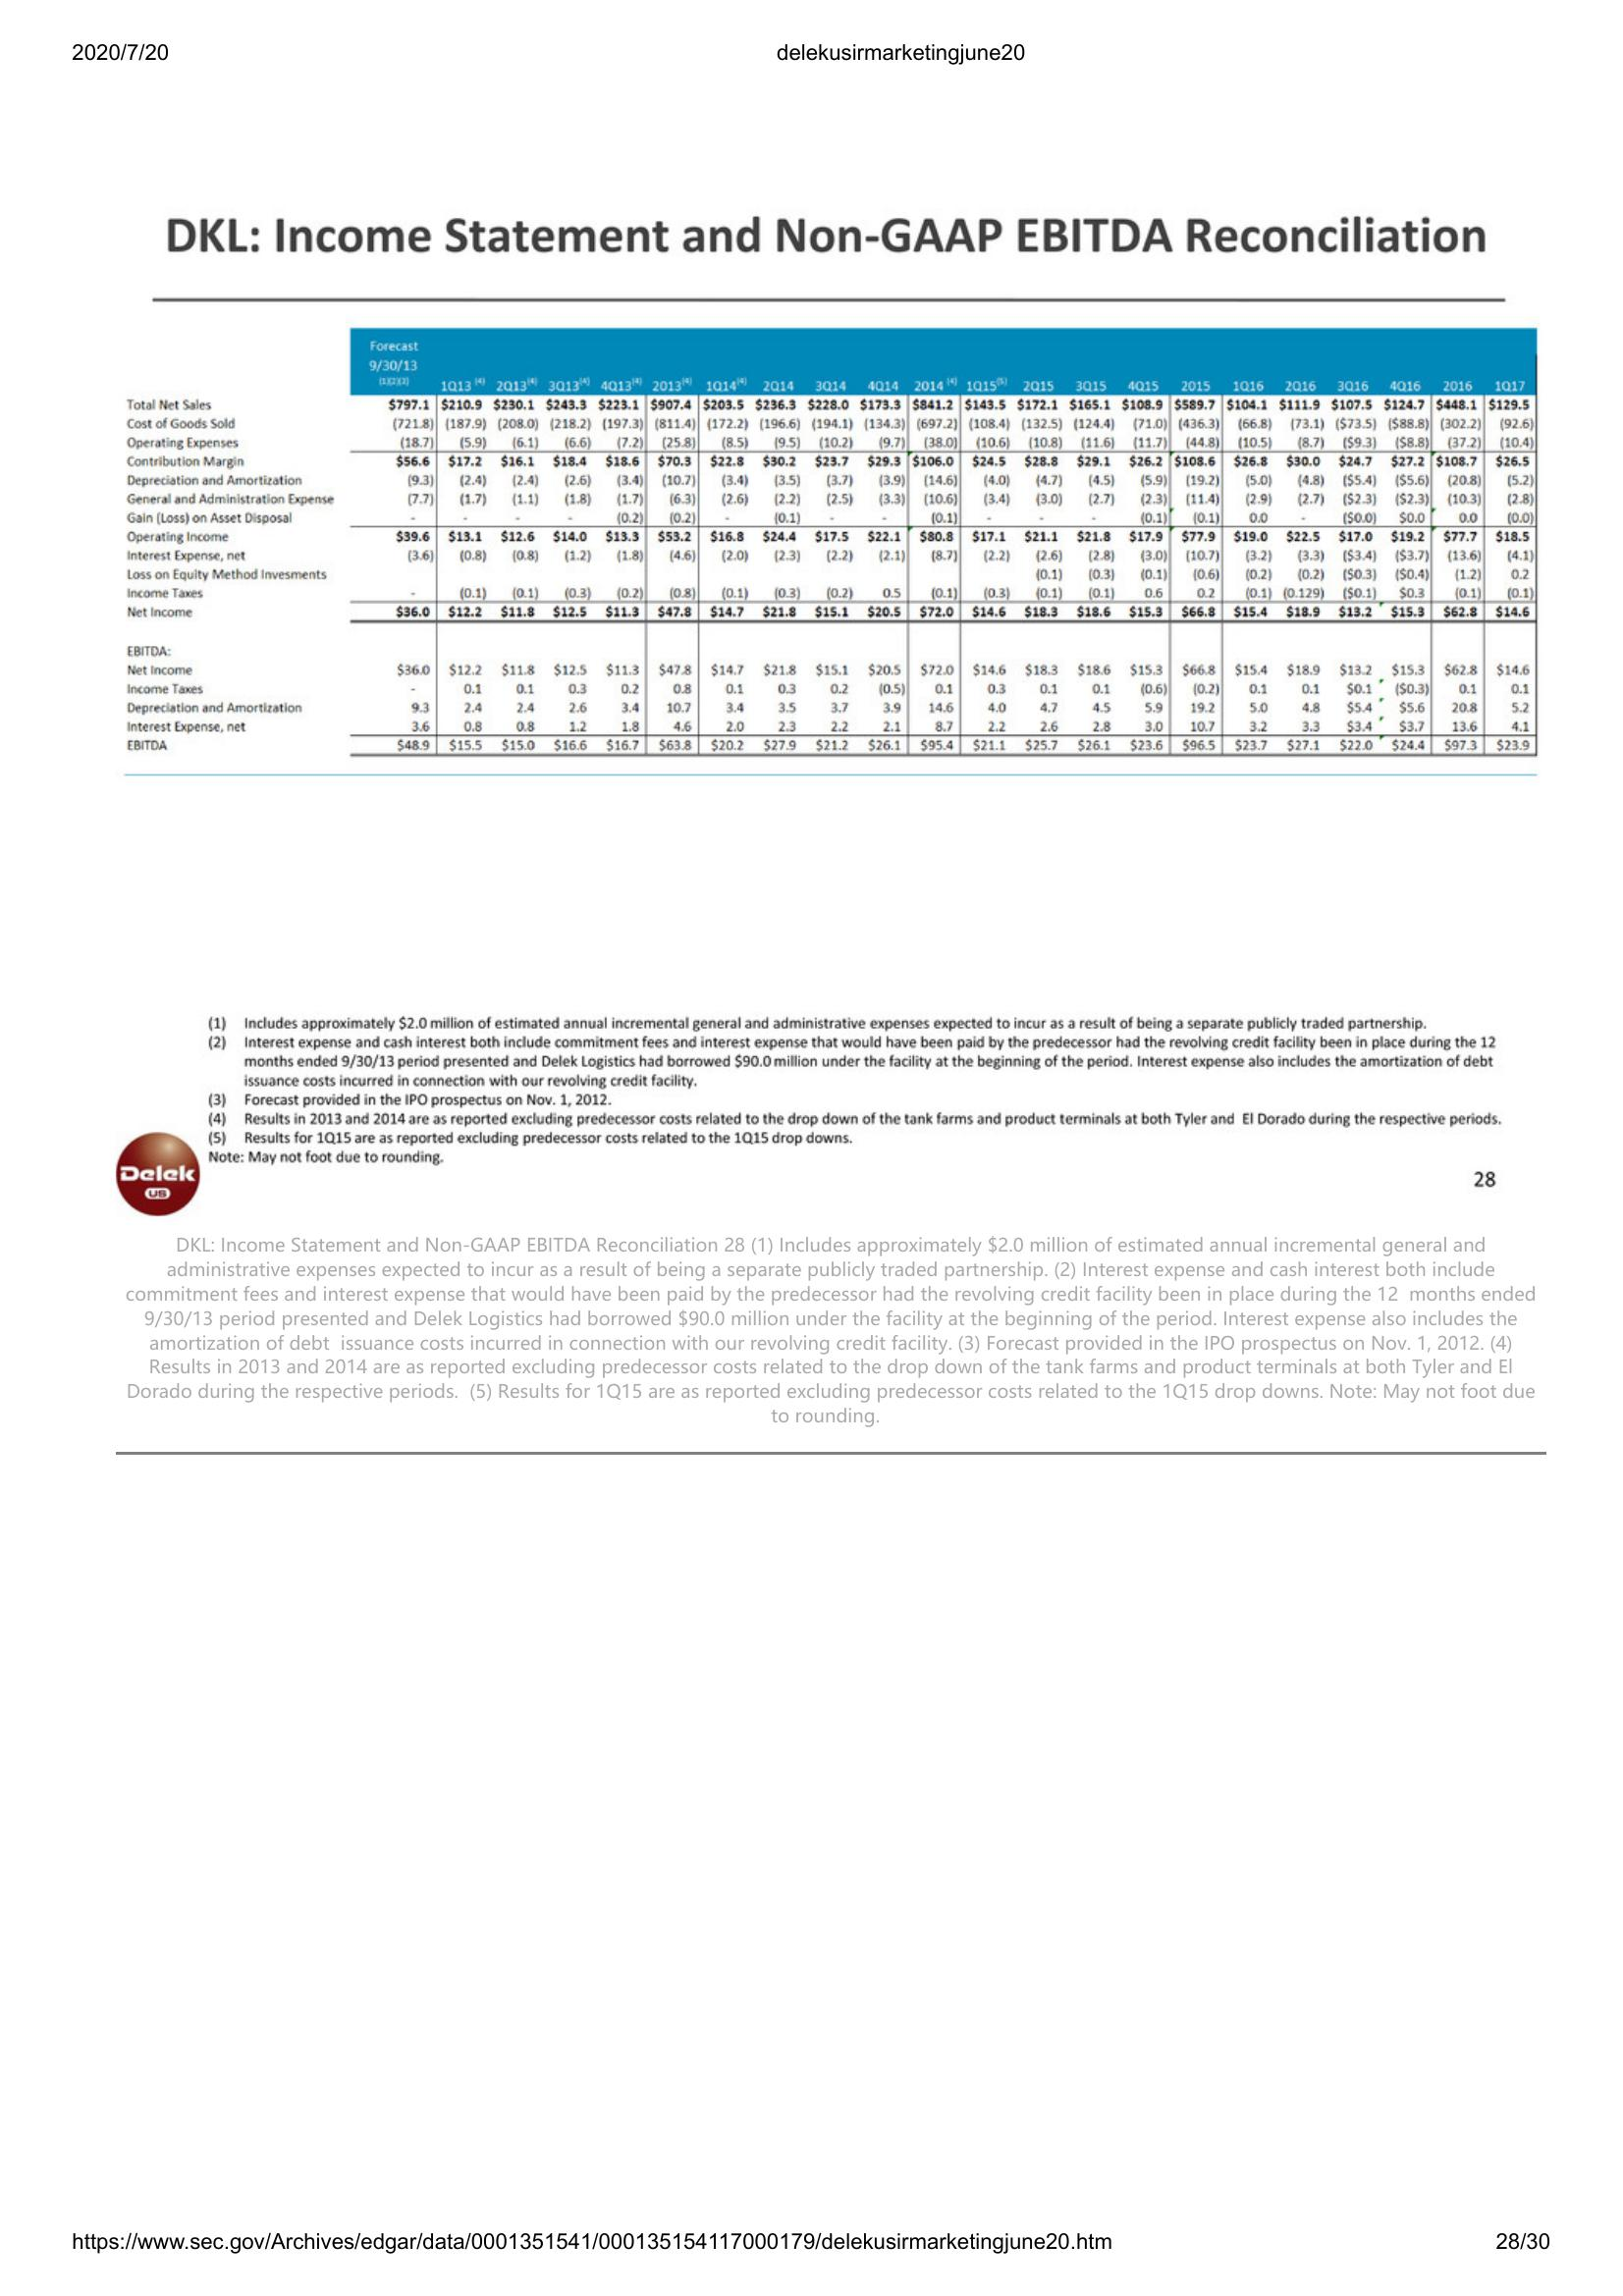table: (119, 316, 1551, 769)
